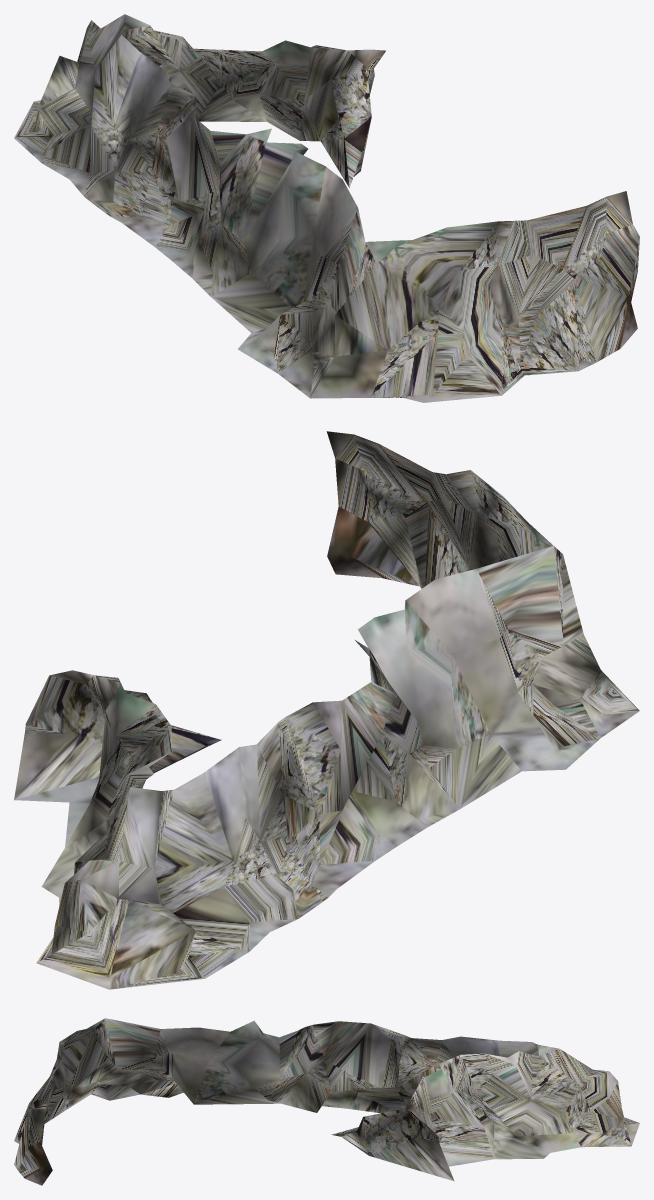
File: shore-ridge.lod1.glb
3 views of the same model, one above another, from view 1: azimuth 30°, elevation 25°; view 2: azimuth 150°, elevation 25°; view 3: azimuth 270°, elevation 25° (orthographic). The views are drawn at different scales.
Parts seen in each view (by area): view 1: Object_3; view 2: Object_3; view 3: Object_3.
Part boxes in pixels (bbox=[...]): Object_3: bbox=[14, 14, 639, 402]; Object_3: bbox=[14, 431, 639, 989]; Object_3: bbox=[14, 1018, 639, 1185].
Size of the model in its own units: 5.73 by 2.79 by 13.75.
1 material, 1 textured.
